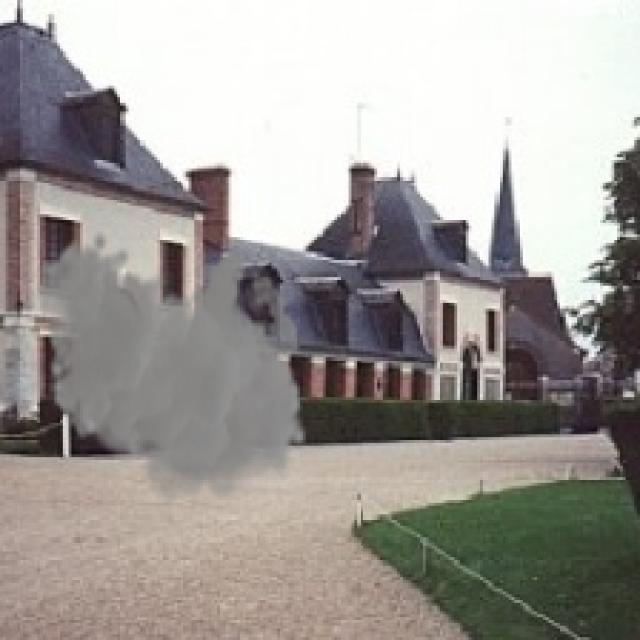Smoke: (37, 232, 309, 514)
